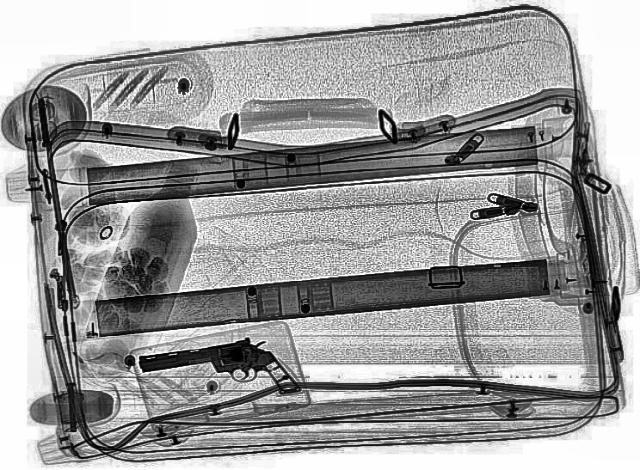Gun: (130, 332, 304, 420)
